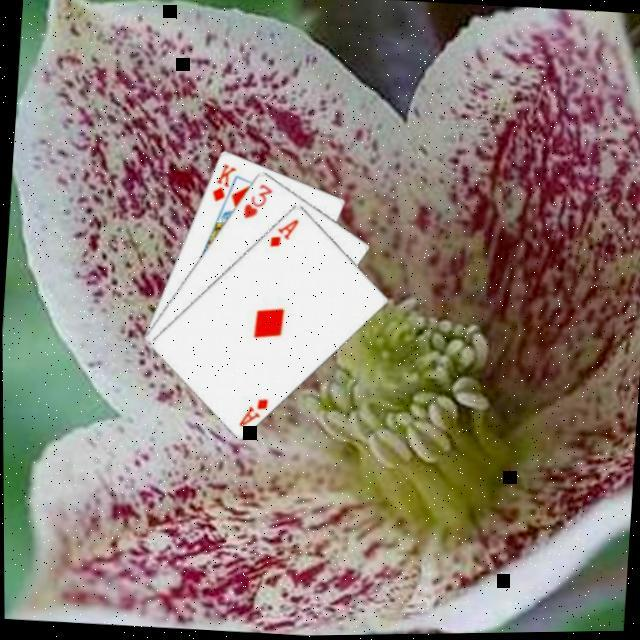3H: (239, 180, 277, 224)
AD: (266, 215, 302, 253), (234, 394, 270, 432)
KD: (207, 161, 239, 207)
